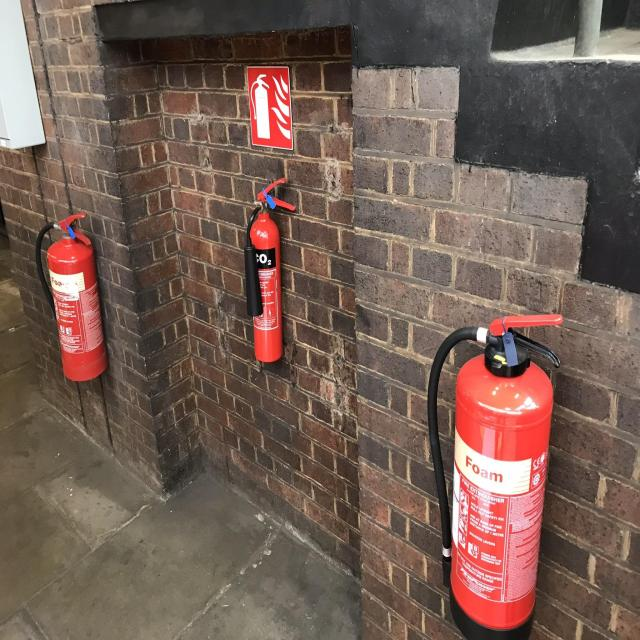fire_extinguisher: (425, 308, 565, 640), (33, 208, 109, 384), (242, 176, 298, 365)
